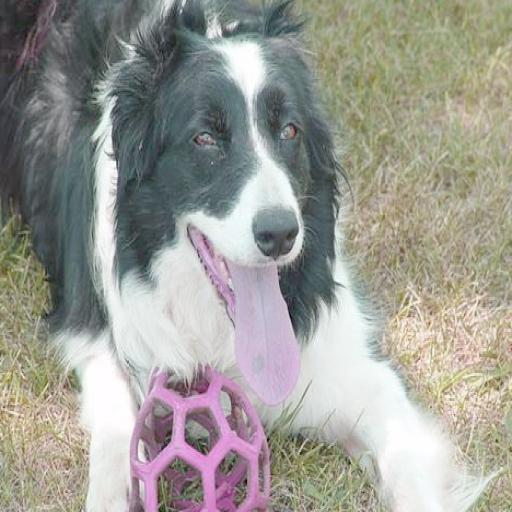dog_face: (120, 20, 330, 388)
